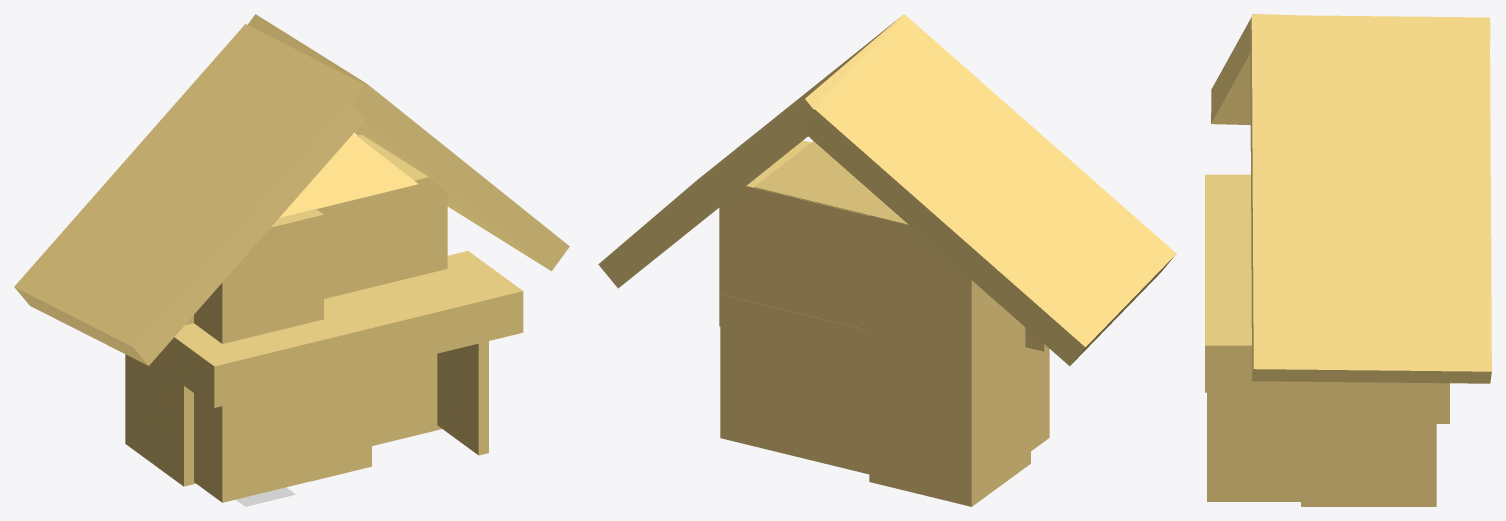
The model's file is PracticehouseNav.glb.
The picture shows the model from 3 angles, left to right: view 1: azimuth 30°, elevation 25°; view 2: azimuth 150°, elevation 25°; view 3: azimuth 270°, elevation 25°; orthographic projection. The views are drawn at different scales.
Parts seen in each view (by area): view 1: Cube.008, Cube.001, Cube, Cube.005, Cube.009, Cube.003, Cube.004, Cube.002, Cube.010, Cube.007; view 2: Cube.008, Cube.003, Cube.004, Cube.005, Cube.009, Cube.010, Cube; view 3: Cube.009, Cube.004, Cube.001, Cube.002, Cube.008, Cube.003.
Boxes of the visible parts, x1,y1,x2,y2 form: Cube.008: (14, 24, 366, 365); Cube.001: (159, 251, 523, 407); Cube: (194, 209, 323, 502); Cube.005: (317, 134, 447, 298); Cube.009: (247, 14, 569, 271); Cube.003: (125, 315, 195, 486); Cube.004: (372, 354, 441, 445); Cube.002: (437, 341, 488, 455); Cube.010: (280, 133, 418, 217); Cube.007: (313, 369, 371, 480); Cube.008: (799, 15, 1176, 366); Cube.003: (869, 216, 1030, 506); Cube.004: (720, 294, 869, 474); Cube.005: (719, 140, 869, 330); Cube.009: (598, 14, 905, 288); Cube.010: (754, 141, 909, 225); Cube: (1031, 348, 1049, 450); Cube.009: (1250, 15, 1491, 383); Cube.004: (1301, 382, 1436, 506); Cube.001: (1205, 174, 1329, 392); Cube.002: (1207, 392, 1301, 501); Cube.008: (1211, 14, 1490, 125); Cube.003: (1436, 383, 1449, 423).
Size of what is drawn, in the model's own units: 18.54 by 14.58 by 8.64.
